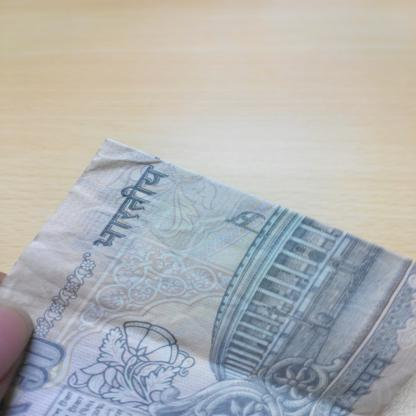Old50Back: (0, 136, 416, 416)
